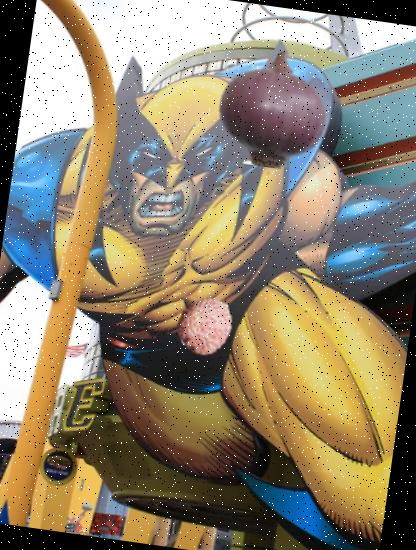Lychee: (173, 292, 240, 360)
Onion: (207, 42, 341, 176)
